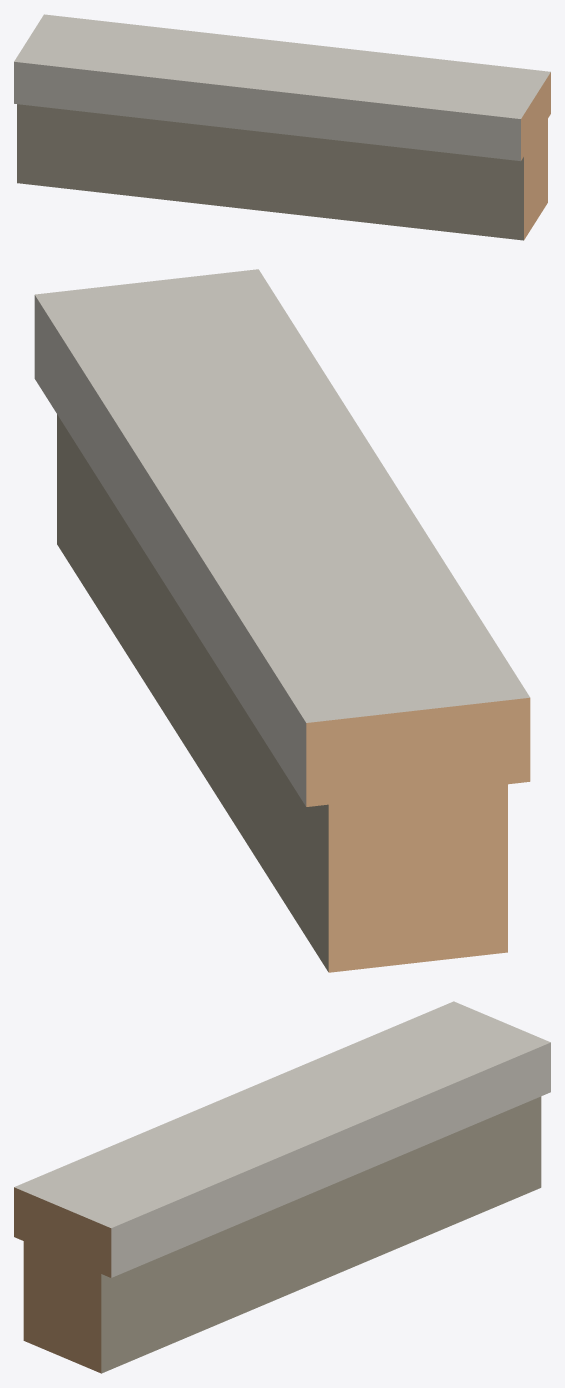
File: Tiered_Retaining_Wall_45_Degrees_Straight_2x2_Top.glb
3 views of the same model, one above another, from view 1: azimuth 30°, elevation 25°; view 2: azimuth 150°, elevation 25°; view 3: azimuth 270°, elevation 25° (orthographic). The views are drawn at different scales.
Visible parts, largest first — view 1: Tiered_Retaining_Wall_45_Degrees_Straight_2x2_Top; view 2: Tiered_Retaining_Wall_45_Degrees_Straight_2x2_Top; view 3: Tiered_Retaining_Wall_45_Degrees_Straight_2x2_Top.
Boxes of the visible parts, x1=… form: Tiered_Retaining_Wall_45_Degrees_Straight_2x2_Top: x1=14, y1=14, x2=550, y2=240; Tiered_Retaining_Wall_45_Degrees_Straight_2x2_Top: x1=34, y1=269, x2=530, y2=972; Tiered_Retaining_Wall_45_Degrees_Straight_2x2_Top: x1=14, y1=1001, x2=550, y2=1373.
Bounding box in the file's own units: 122 × 37.5 × 122.
